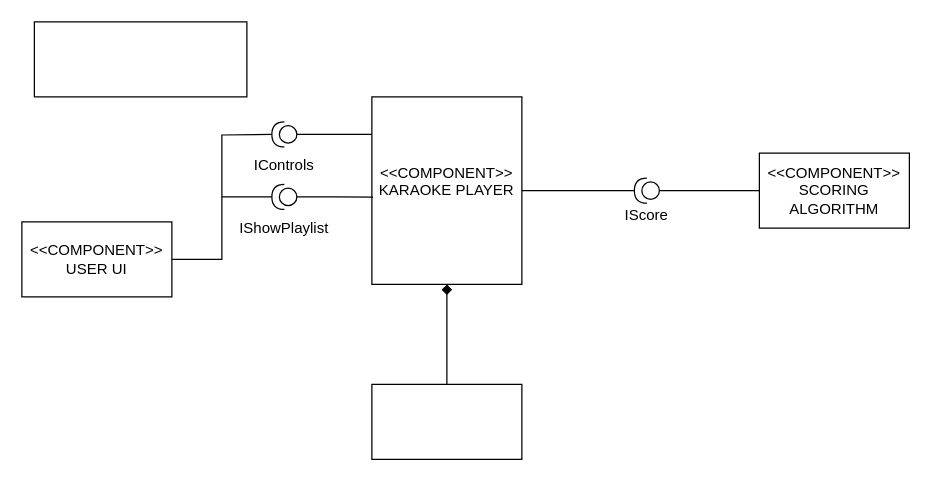
Some shapes in this 931 by 481 pixel diagram are drawn without their labels. Here are the shapes that lost their labels. From the top down, the centre of each, then its label:
(140,59): COMPONENT DIAGRAM: NHAQUEUE KARAOKE
(446,421): <<COMPONENT>> PLAYLIST
